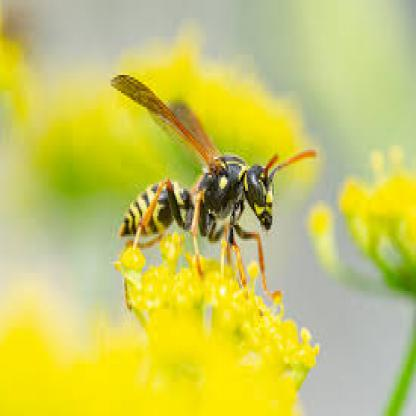other: (107, 64, 314, 310)
